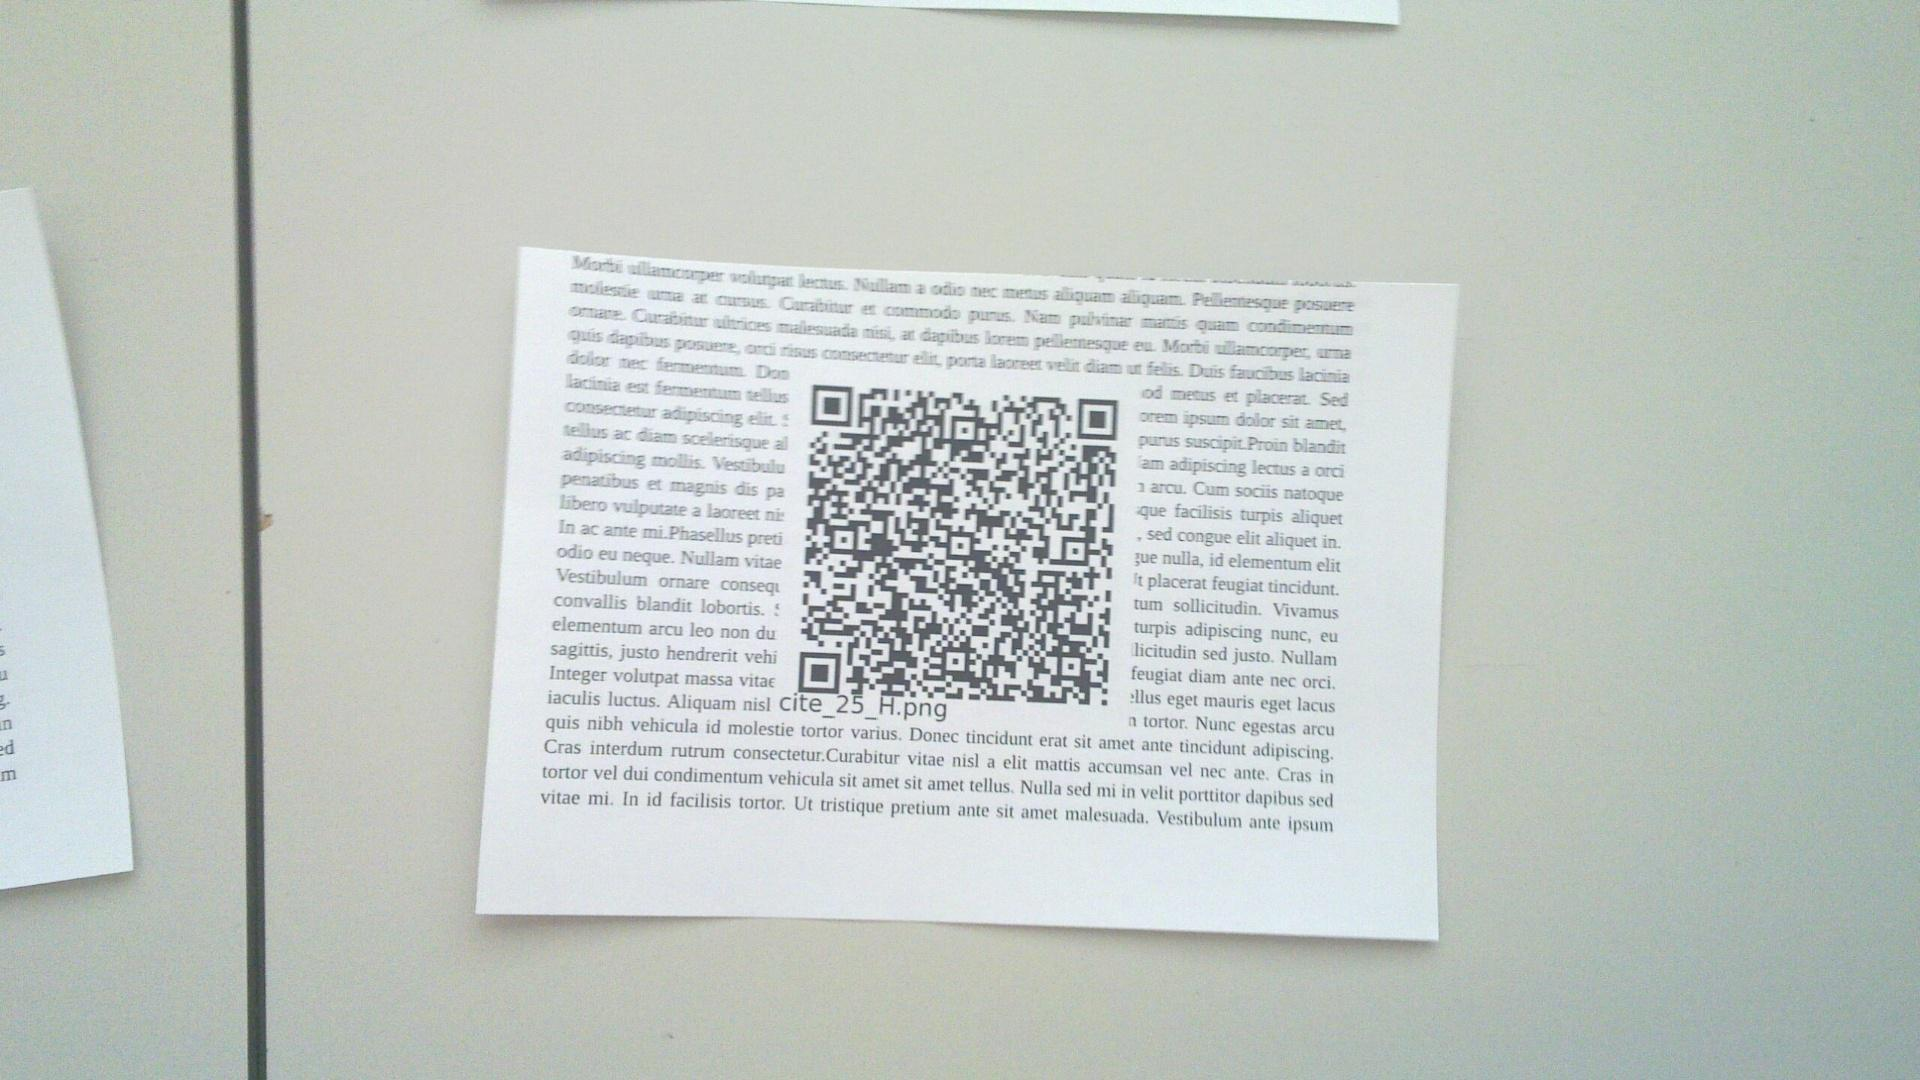Finder pattern: (790, 644, 847, 699), (1072, 392, 1124, 444), (807, 376, 857, 429)
